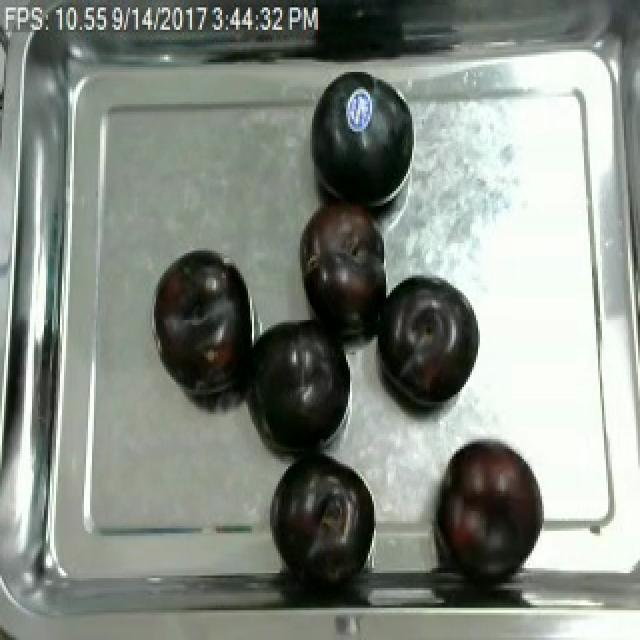Fruit: (242, 308, 354, 457), (304, 74, 420, 216), (378, 270, 484, 412), (434, 434, 546, 568), (150, 250, 252, 397), (294, 191, 388, 337), (268, 454, 372, 573)
